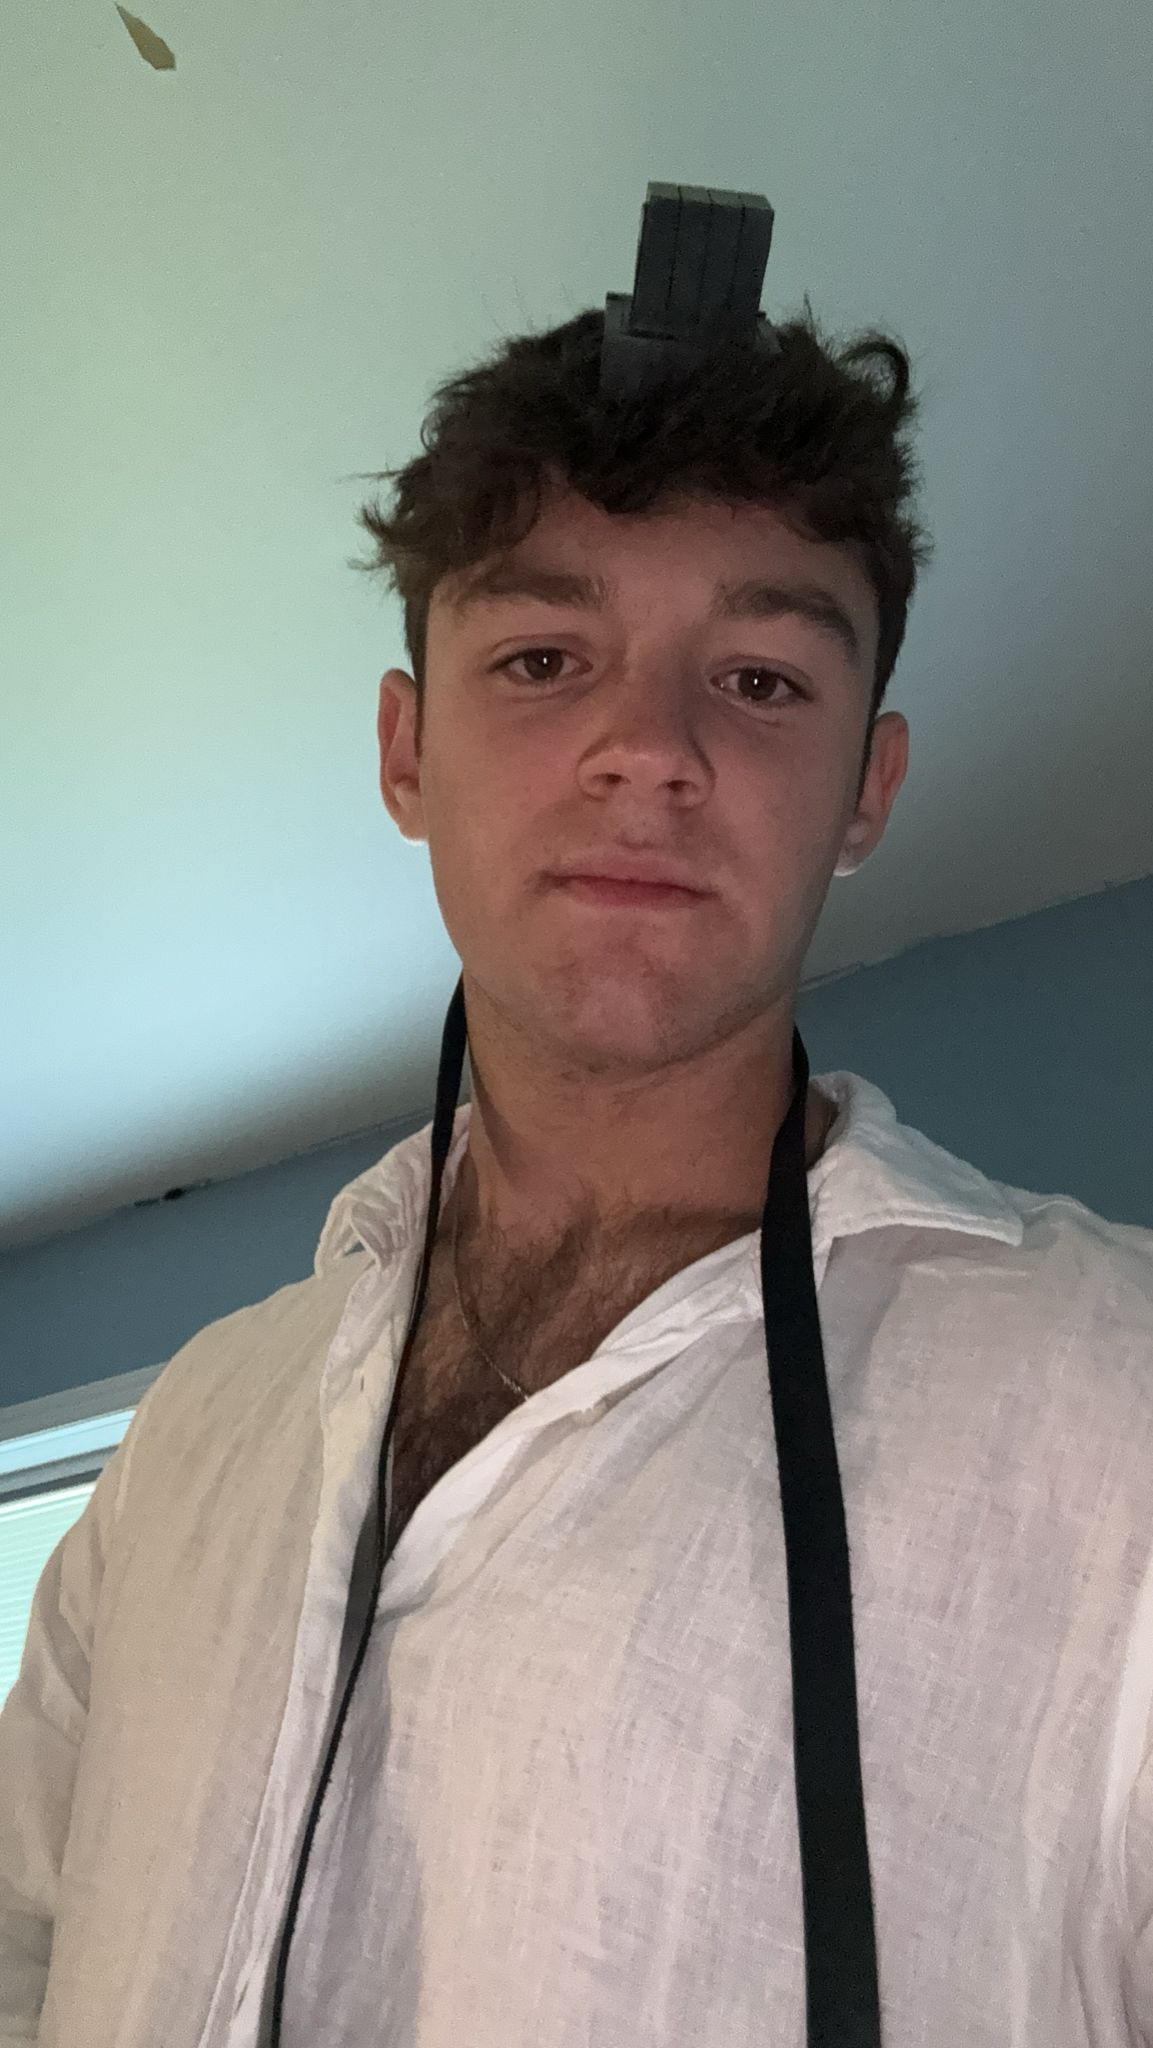tefillin: (602, 183, 789, 391)
